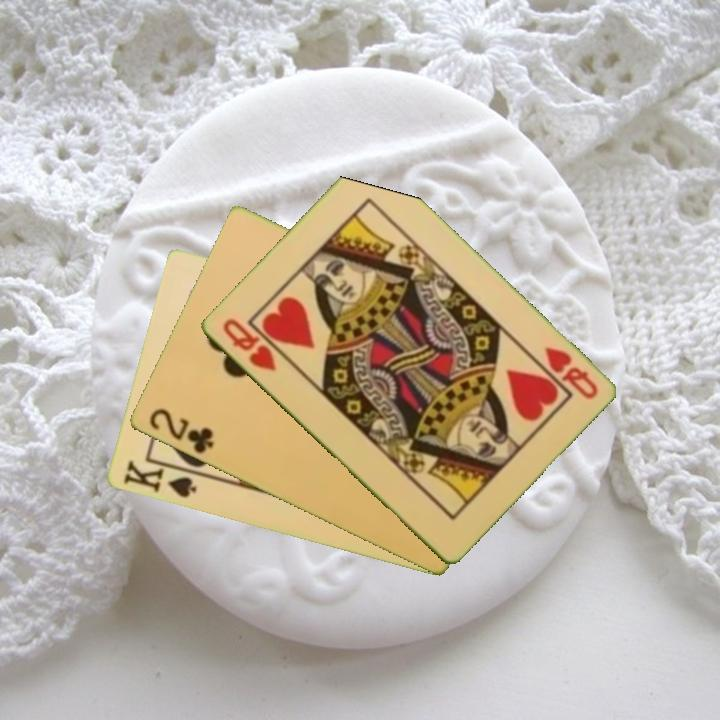2c: (145, 405, 216, 457)
Ks: (119, 457, 203, 501)
Qh: (219, 314, 279, 375), (540, 343, 600, 403)
